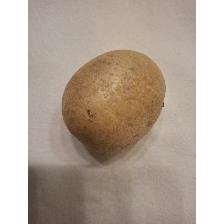Kartoffel: (59, 48, 169, 156)
